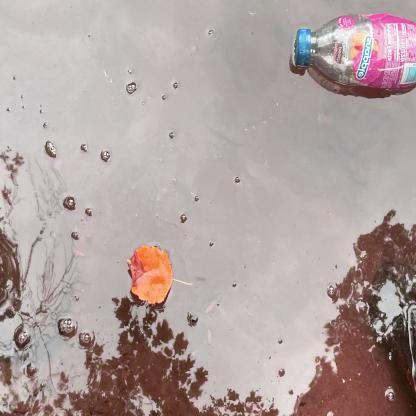Plastic: (288, 0, 416, 98)
